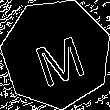M_N: (26, 22, 87, 85)
